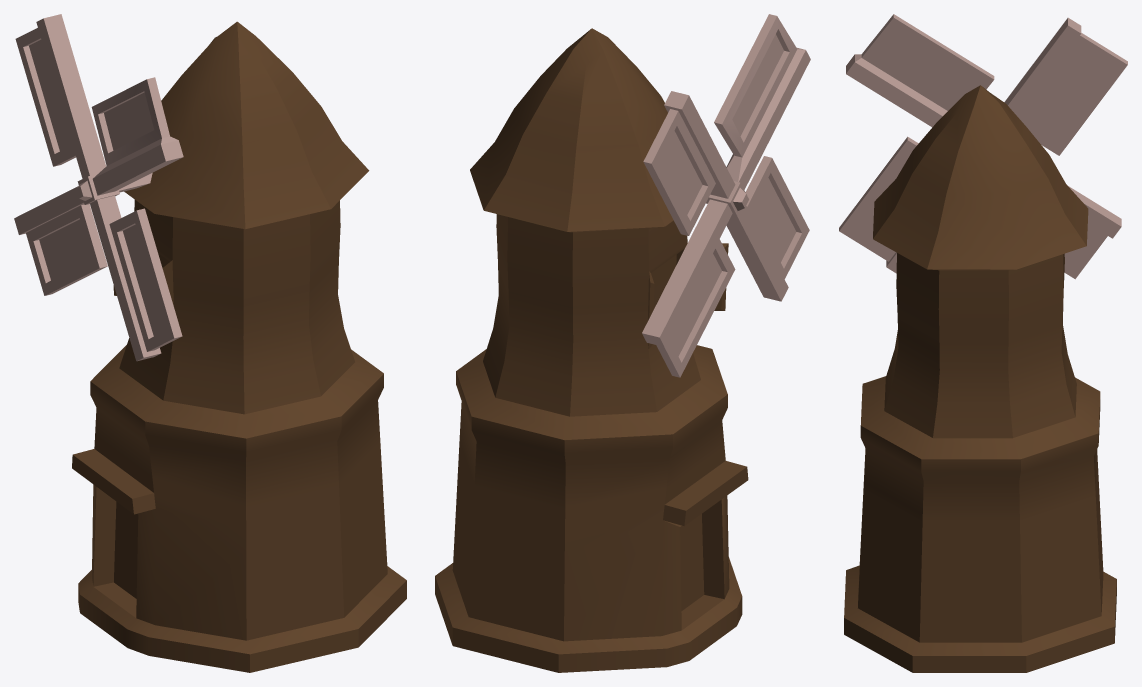
The model's file is Zwykła skrzynia.fbx.
The picture shows the model from 3 angles, left to right: view 1: azimuth 30°, elevation 25°; view 2: azimuth 150°, elevation 25°; view 3: azimuth 270°, elevation 25°; orthographic projection. The views are drawn at different scales.
Visible parts, largest first — view 1: Młyn 2.001; view 2: Młyn 2.001; view 3: Młyn 2.001.
Part boxes in pixels (x1=…): Młyn 2.001: x1=14, y1=14, x2=406, y2=672; Młyn 2.001: x1=435, y1=14, x2=810, y2=672; Młyn 2.001: x1=839, y1=14, x2=1127, y2=672.
Bounding box in the file's own units: 2231 × 4387 × 2129.
